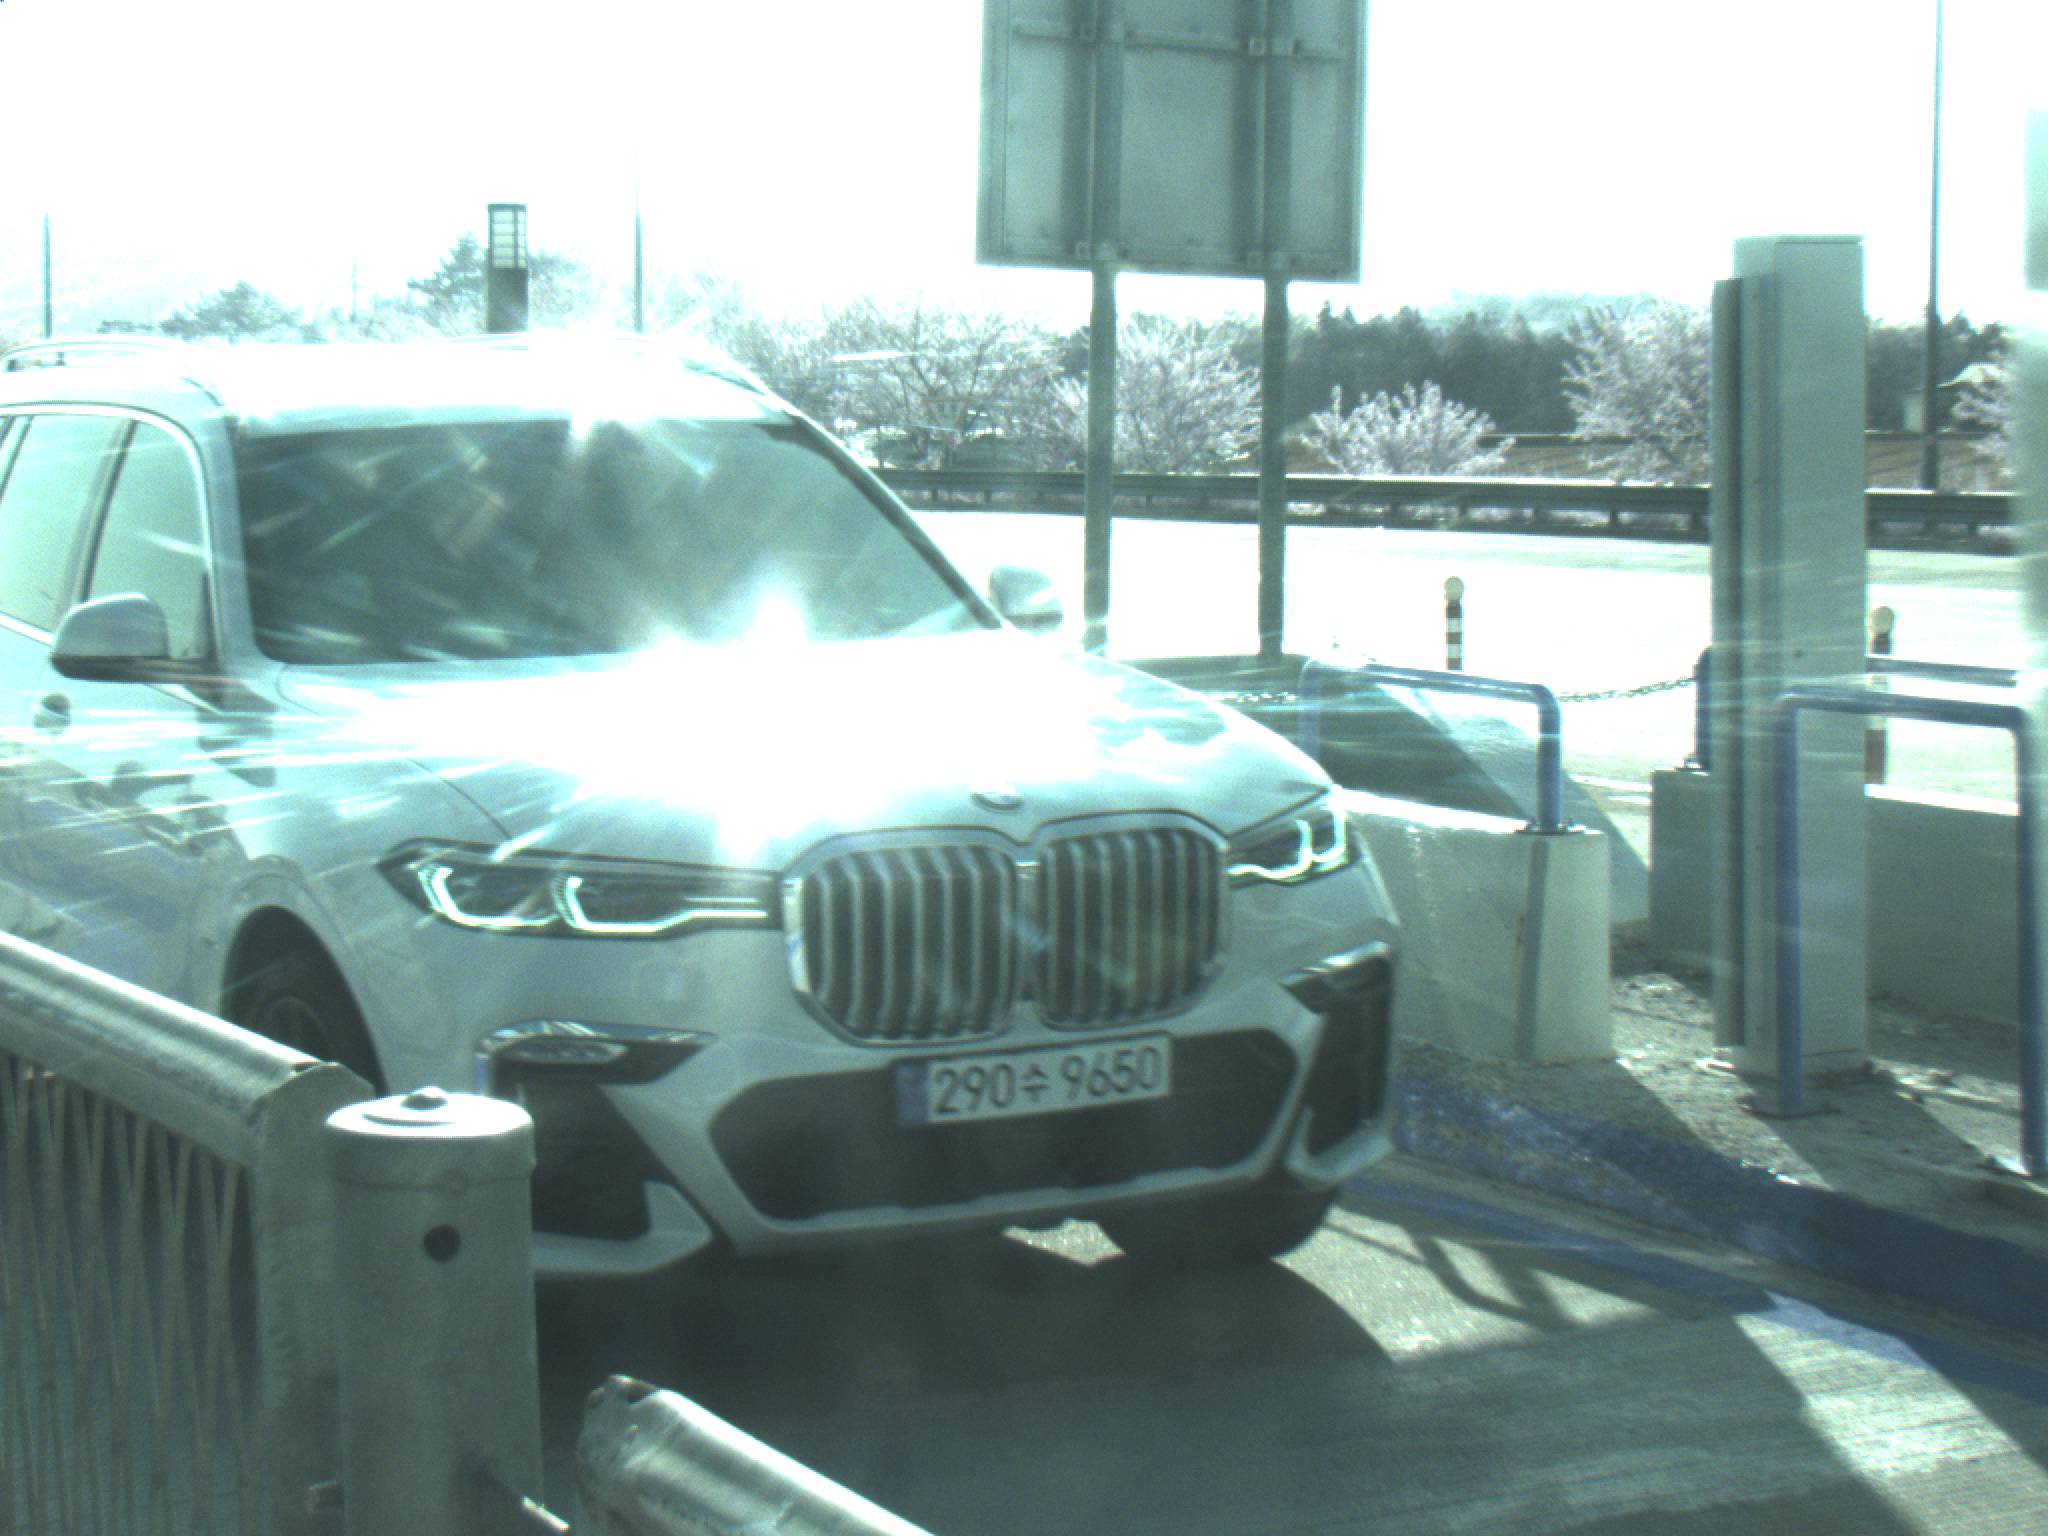car: (1, 340, 1406, 1328)
plate: (884, 1028, 1176, 1140)
